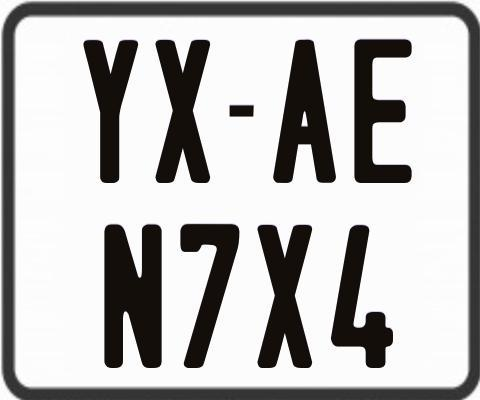4: (328, 222, 392, 369)
7: (178, 223, 238, 367)
A: (272, 40, 337, 188)
E: (351, 36, 415, 183)
N: (101, 222, 163, 366)
X: (153, 37, 213, 186), (255, 225, 309, 369)
Y: (83, 38, 144, 184)
